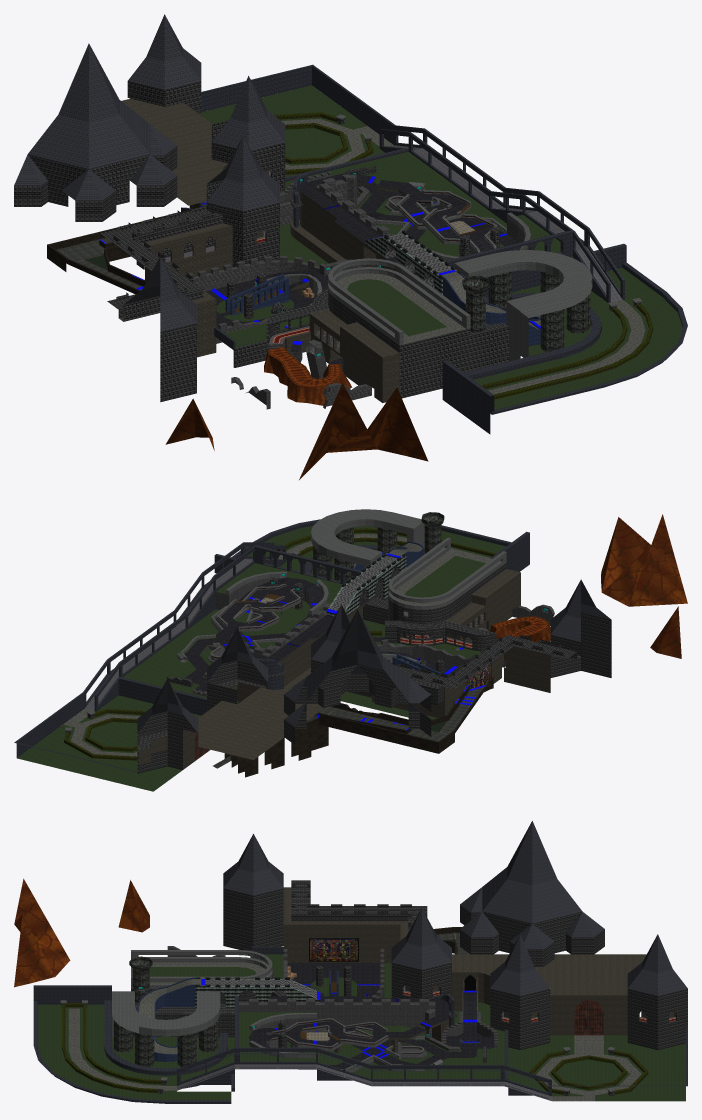
The picture shows the model from 3 angles, top to bottom: view 1: azimuth 30°, elevation 25°; view 2: azimuth 150°, elevation 25°; view 3: azimuth 270°, elevation 25°; orthographic projection. The views are drawn at different scales.
Parts seen in each view (by area): view 1: final_grounds_update-SKP--Material6.001, final_grounds_update-SKP--auto32.001, final_grounds_update-SKP--Material14.001, final_grounds_update-SKP--Material8.001, final_grounds_update-SKP--auto33.001, final_grounds_update-SKP--Material15.001, final_grounds_update-SKP--auto43.001, final_grounds_update-SKP--auto18.001, final_grounds_update-SKP--auto16.001, final_grounds_update-SKP--Material9.001, final_grounds_update-SKP--Material10.001, final_grounds_update-SKP--Material7.001 (+7 smaller); view 2: final_grounds_update-SKP--Material6.001, final_grounds_update-SKP--Material14.001, final_grounds_update-SKP--auto33.001, final_grounds_update-SKP--Material8.001, final_grounds_update-SKP--Material15.001, final_grounds_update-SKP--auto32.001, final_grounds_update-SKP--auto18.001, final_grounds_update-SKP--walls.001, final_grounds_update-SKP--auto16.001, final_grounds_update-SKP--auto43.001, final_grounds_update-SKP--Material9.001, final_grounds_update-SKP--Material7.001 (+8 smaller); view 3: final_grounds_update-SKP--Material6.001, final_grounds_update-SKP--Material14.001, final_grounds_update-SKP--auto32.001, final_grounds_update-SKP--auto33.001, final_grounds_update-SKP--Material8.001, final_grounds_update-SKP--Material15.001, final_grounds_update-SKP--auto16.001, final_grounds_update-SKP--auto43.001, final_grounds_update-SKP--Material9.001, final_grounds_update-SKP--auto18.001, final_grounds_update-SKP--Material10.001, final_grounds_update-SKP--Material7.001 (+8 smaller).
Boxes of the visible parts, x1,y1,x2,y2 form: final_grounds_update-SKP--Material6.001: [14, 81, 640, 402]; final_grounds_update-SKP--auto32.001: [14, 14, 285, 331]; final_grounds_update-SKP--Material14.001: [201, 85, 682, 409]; final_grounds_update-SKP--Material8.001: [201, 64, 687, 434]; final_grounds_update-SKP--auto33.001: [119, 98, 415, 402]; final_grounds_update-SKP--Material15.001: [254, 114, 642, 361]; final_grounds_update-SKP--auto43.001: [185, 171, 525, 409]; final_grounds_update-SKP--auto18.001: [165, 351, 428, 479]; final_grounds_update-SKP--auto16.001: [206, 173, 518, 370]; final_grounds_update-SKP--Material9.001: [281, 119, 645, 394]; final_grounds_update-SKP--Material10.001: [462, 271, 590, 352]; final_grounds_update-SKP--Material7.001: [274, 112, 653, 399]; final_grounds_update-SKP--Material6.001: [65, 549, 611, 773]; final_grounds_update-SKP--Material14.001: [17, 526, 505, 791]; final_grounds_update-SKP--auto33.001: [139, 569, 580, 769]; final_grounds_update-SKP--Material8.001: [14, 519, 529, 772]; final_grounds_update-SKP--Material15.001: [65, 509, 506, 731]; final_grounds_update-SKP--auto32.001: [137, 579, 610, 733]; final_grounds_update-SKP--auto18.001: [489, 514, 687, 658]; final_grounds_update-SKP--walls.001: [224, 677, 493, 777]; final_grounds_update-SKP--auto16.001: [184, 577, 457, 692]; final_grounds_update-SKP--auto43.001: [192, 577, 554, 705]; final_grounds_update-SKP--Material9.001: [63, 534, 498, 756]; final_grounds_update-SKP--Material7.001: [64, 528, 496, 760]; final_grounds_update-SKP--Material6.001: [61, 880, 687, 1095]; final_grounds_update-SKP--Material14.001: [37, 954, 685, 1101]; final_grounds_update-SKP--auto32.001: [223, 821, 687, 995]; final_grounds_update-SKP--auto33.001: [283, 887, 675, 1052]; final_grounds_update-SKP--Material8.001: [33, 946, 687, 1103]; final_grounds_update-SKP--Material15.001: [60, 950, 615, 1091]; final_grounds_update-SKP--auto16.001: [249, 963, 494, 1069]; final_grounds_update-SKP--auto43.001: [167, 946, 498, 1069]; final_grounds_update-SKP--Material9.001: [68, 962, 641, 1101]; final_grounds_update-SKP--auto18.001: [14, 878, 149, 987]; final_grounds_update-SKP--Material10.001: [114, 956, 218, 1067]; final_grounds_update-SKP--Material7.001: [62, 1003, 648, 1094].
Size of the model in its own units: 124966 by 51135 by 174363.
Materials: 51 (51 with a texture image).
